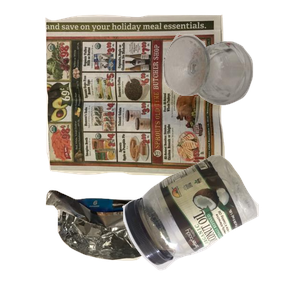glass: (161, 30, 300, 128)
paper: (42, 12, 260, 185)
plastic: (120, 152, 300, 300)
trash: (43, 187, 234, 300)
